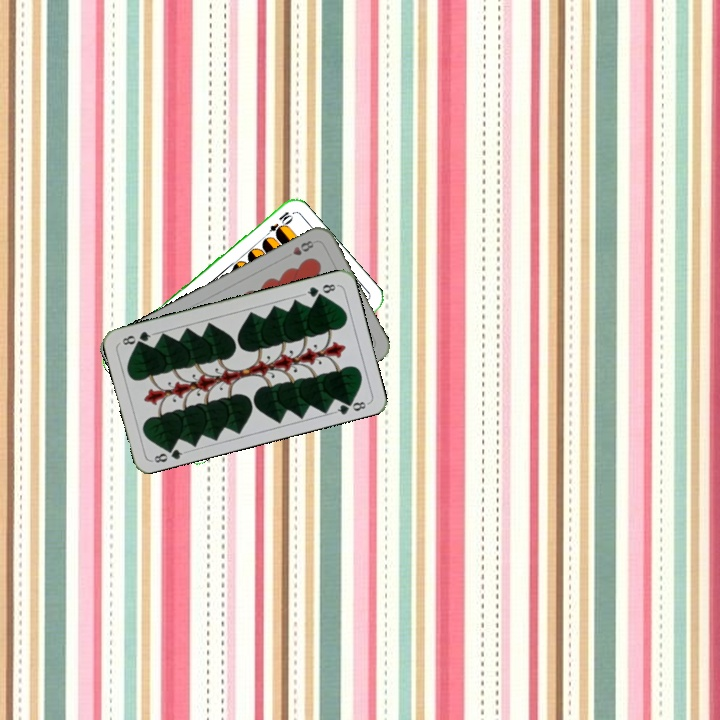E10: (260, 207, 295, 241)
G8: (148, 441, 189, 465), (300, 280, 340, 300)
H8: (289, 236, 316, 258)
